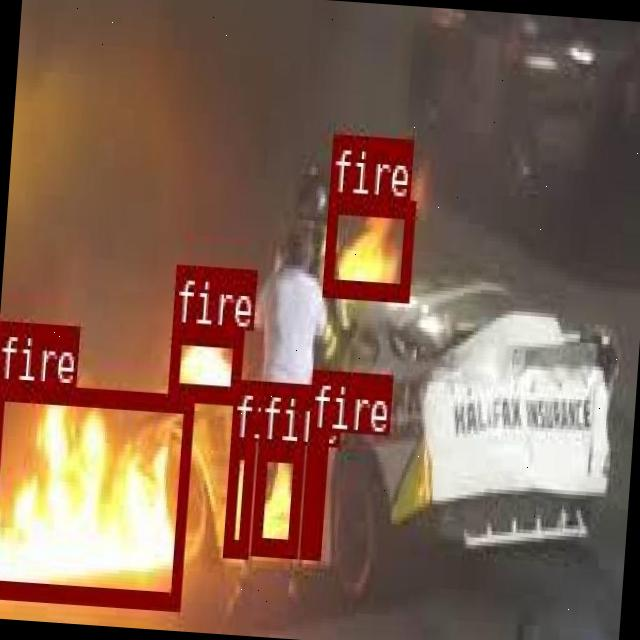fire: (0, 378, 190, 605), (321, 193, 413, 298), (248, 438, 302, 555), (167, 322, 240, 398), (298, 426, 326, 556), (222, 437, 252, 552)
